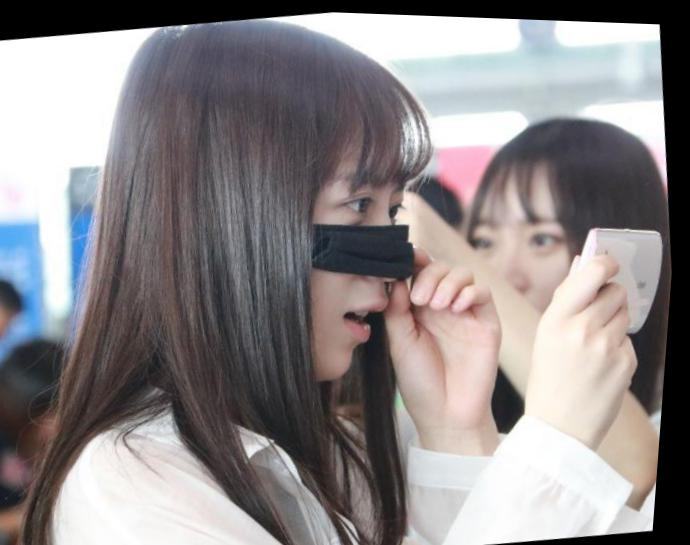NONE: (458, 193, 609, 360)
WRONG: (248, 125, 449, 390)
